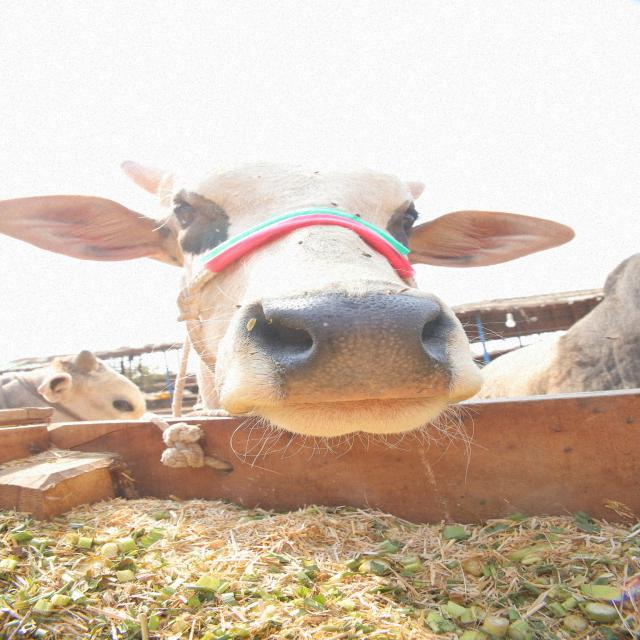muzzles: (242, 288, 461, 405)
